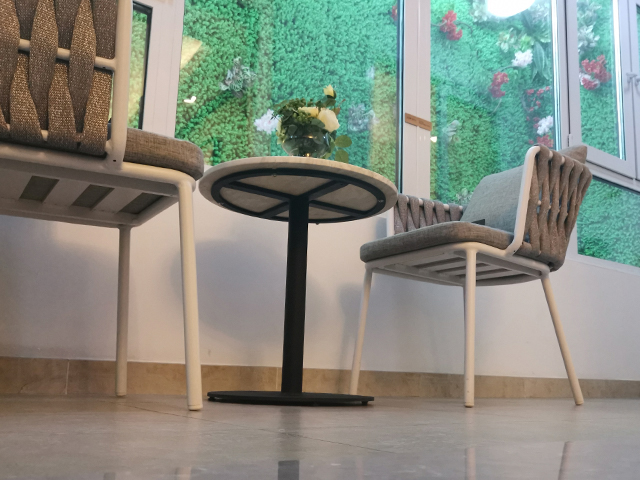stool: (1, 1, 206, 412), (347, 142, 594, 409)
table: (196, 154, 399, 409)
